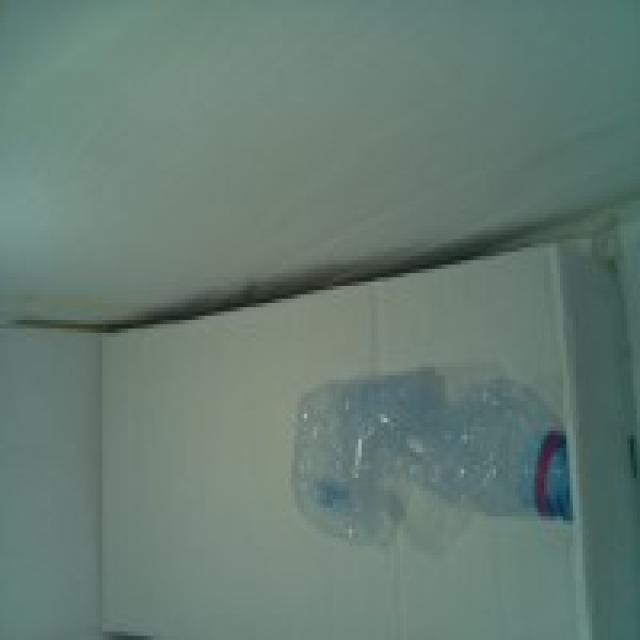blue: (288, 368, 572, 555)
